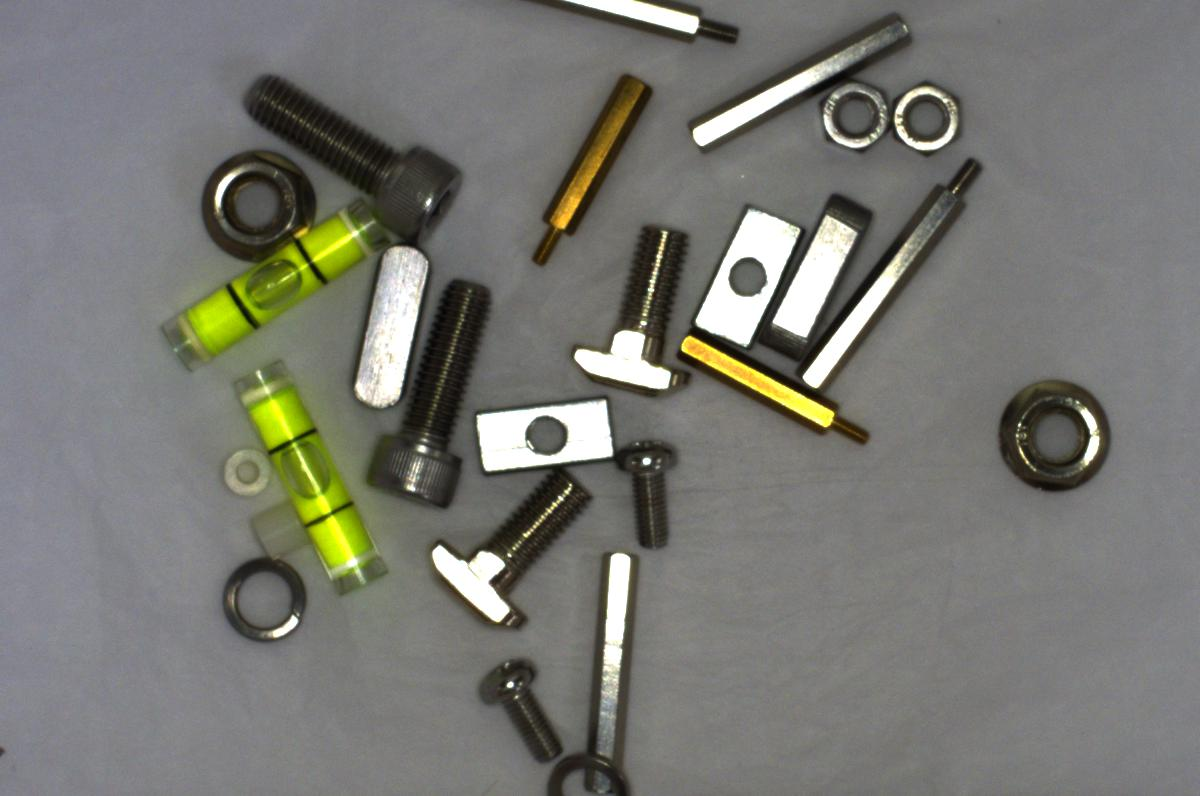Double hexagonal column: (671, 14, 932, 163), (576, 544, 655, 789)
Flange nut: (183, 149, 317, 268), (994, 378, 1117, 498)
Hexagon nut: (885, 71, 971, 159), (807, 76, 892, 154)
Hexagon pillar: (529, 67, 653, 267), (675, 335, 871, 454)
Hexagon screw: (225, 64, 460, 235), (348, 268, 496, 512)
Hexagonal steel column: (788, 162, 988, 395), (564, 0, 741, 54)
Horizontal bubble: (165, 183, 391, 373), (228, 359, 391, 595)
Keybar: (761, 190, 874, 356), (335, 235, 434, 414)
Plastic cushion pillar: (242, 499, 316, 567), (208, 437, 280, 498)
Rectangular nut: (683, 198, 801, 353), (465, 398, 620, 474)
Round head screw: (473, 649, 562, 771), (608, 433, 684, 553)
Spring washer: (219, 556, 319, 646)
T-shaped screw: (421, 471, 603, 633), (558, 214, 700, 400)
